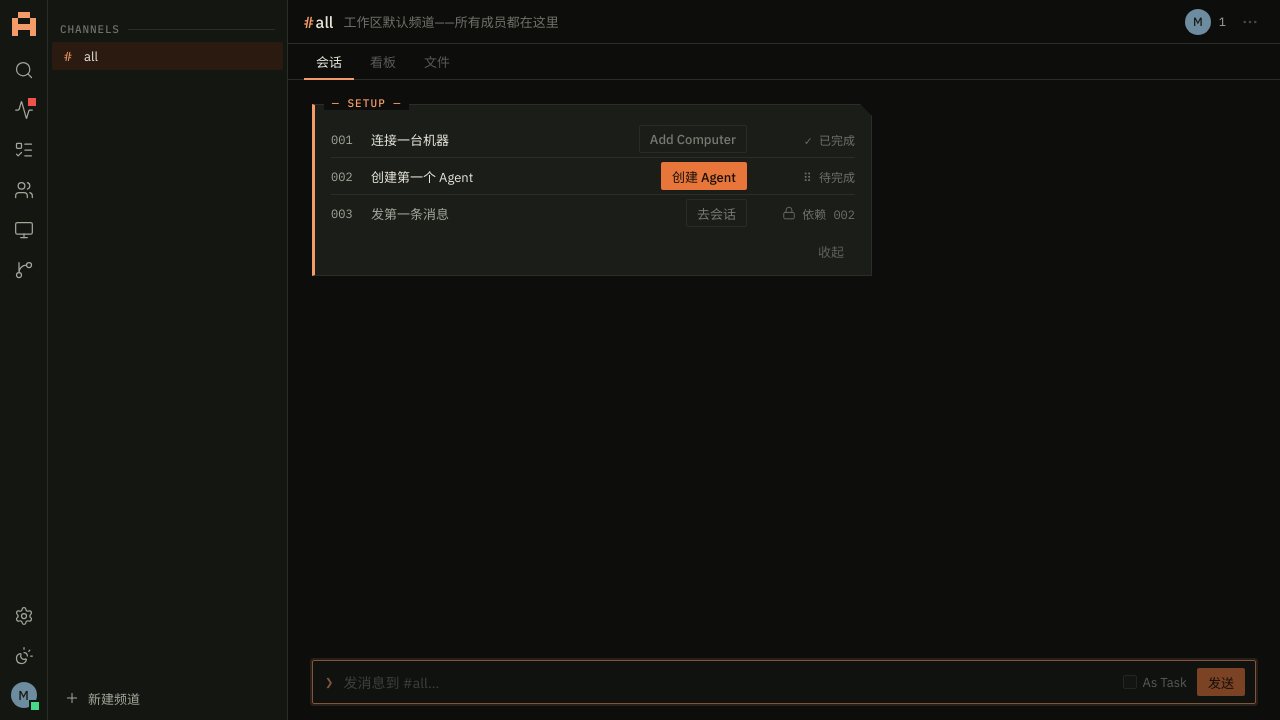
Test: SetupChecklistScreen 002 创建 Agent › 依赖(001)达成、002 未完成 → 按钮 actionable，点击打开 CreateAgentModal
Click the button "创建 Agent": (704, 176) 661,162 -> 747,190
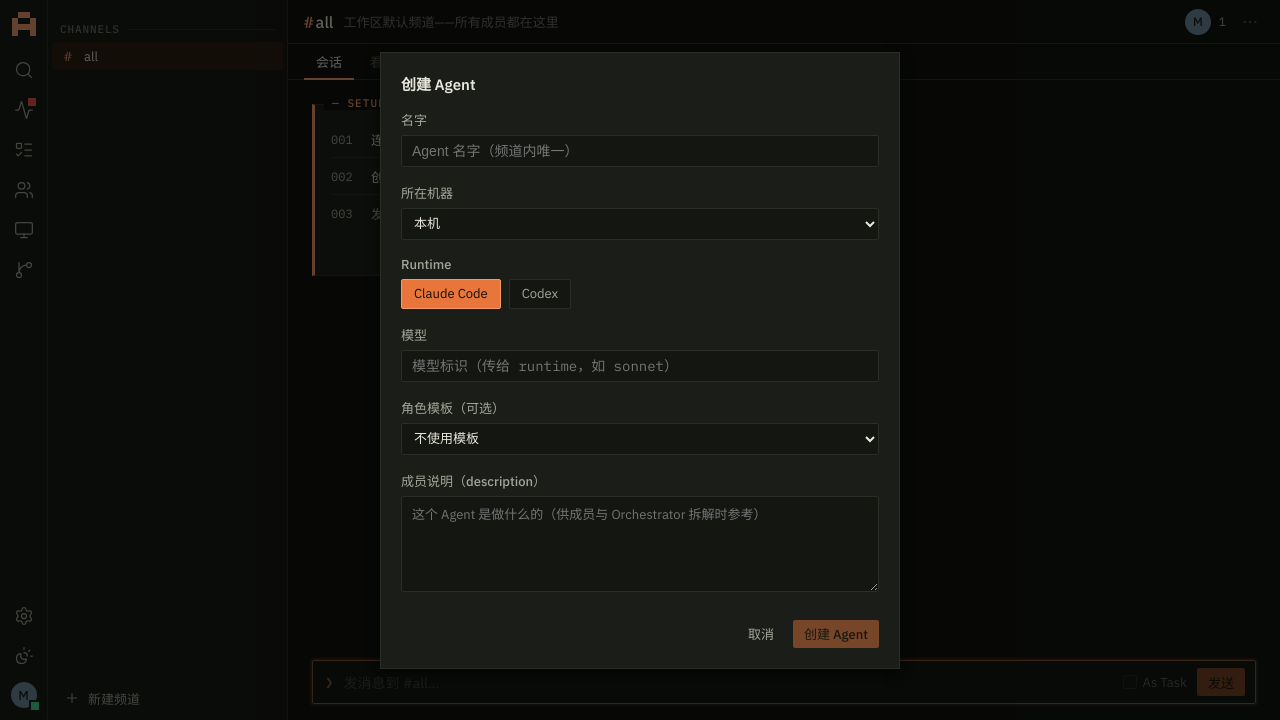
Now the dialog "创建 Agent" is shown, box 380,52 -> 900,668
